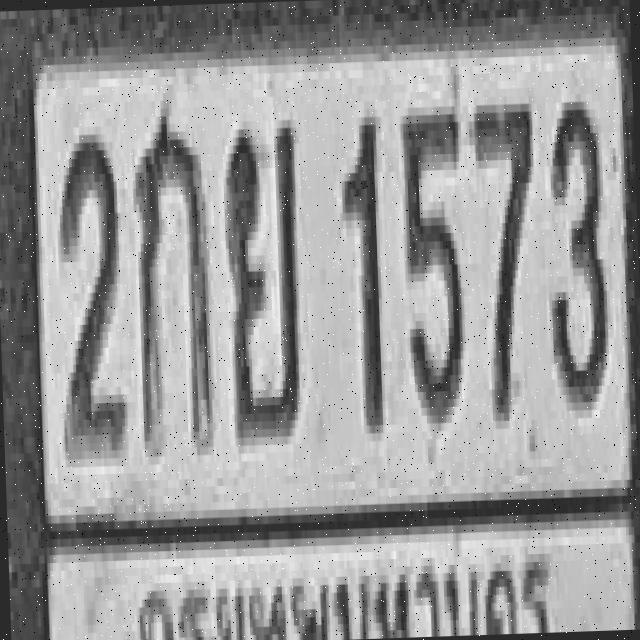1: (339, 113, 386, 430)
10GorGai: (130, 110, 213, 444)
2: (54, 130, 125, 448)
3: (542, 93, 608, 403)
43YorYak: (222, 120, 304, 438)
5: (400, 102, 468, 420)
7: (471, 95, 542, 413)
